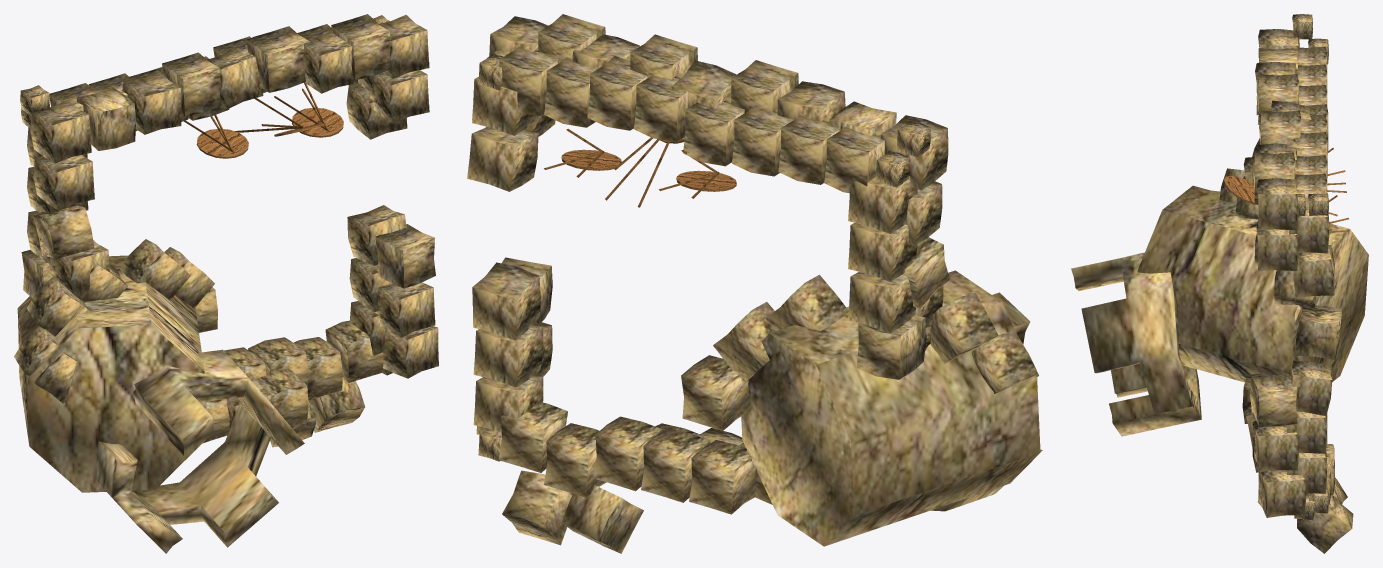
Rendered from archery_000058.obj.
3 renders of one model, left to right at view 1: azimuth 30°, elevation 25°; view 2: azimuth 150°, elevation 25°; view 3: azimuth 270°, elevation 25°, orthographic. The views are drawn at different scales.
Visible parts, largest first — view 1: Cylinder.060_Cylinder.040, Cylinder.110, Cylinder.111, Cylinder.112, Cylinder.070, Cylinder.100, Cylinder.087, Cylinder.099, Cylinder.083, Cylinder.084, Cylinder.069, Cylinder.085 (+26 smaller); view 2: Cylinder.060_Cylinder.040, Cylinder.112, Cylinder.111, Cylinder.075, Cylinder.057_Cylinder.032, Cylinder.074, Cylinder.104, Cylinder.058_Cylinder.033, Cylinder.059_Cylinder.039, Cylinder.064, Cylinder.063_Cylinder.057, Cylinder.076 (+33 smaller); view 3: Cylinder.060_Cylinder.040, Cylinder.110, Cylinder.112, Cylinder.070, Cylinder.071, Cylinder.068, Cylinder.069, Cylinder.075, Cylinder.074, Cylinder.063_Cylinder.057, Cylinder.072, Cylinder.085 (+21 smaller).
Part boxes in pixels (left/top/right/bottom): Cylinder.060_Cylinder.040: left=17, top=255, right=205, bottom=492; Cylinder.110: left=96, top=349, right=304, bottom=553; Cylinder.111: left=14, top=263, right=127, bottom=404; Cylinder.112: left=120, top=239, right=217, bottom=332; Cylinder.070: left=375, top=224, right=435, bottom=288; Cylinder.100: left=30, top=100, right=91, bottom=163; Cylinder.087: left=246, top=28, right=305, bottom=92; Cylinder.099: left=33, top=155, right=94, bottom=210; Cylinder.083: left=76, top=88, right=135, bottom=150; Cylinder.084: left=122, top=72, right=181, bottom=134; Cylinder.069: left=374, top=282, right=435, bottom=337; Cylinder.085: left=162, top=52, right=221, bottom=116; Cylinder.060_Cylinder.040: left=741, top=270, right=1040, bottom=546; Cylinder.112: left=681, top=274, right=848, bottom=430; Cylinder.111: left=929, top=292, right=1038, bottom=393; Cylinder.075: left=472, top=262, right=540, bottom=340; Cylinder.057_Cylinder.032: left=689, top=440, right=755, bottom=514; Cylinder.074: left=467, top=126, right=538, bottom=191; Cylinder.104: left=856, top=315, right=926, bottom=379; Cylinder.058_Cylinder.033: left=641, top=428, right=710, bottom=502; Cylinder.059_Cylinder.039: left=593, top=416, right=662, bottom=491; Cylinder.064: left=561, top=484, right=643, bottom=553; Cylinder.063_Cylinder.057: left=502, top=470, right=573, bottom=545; Cylinder.076: left=473, top=323, right=543, bottom=387; Cylinder.060_Cylinder.040: left=1137, top=185, right=1368, bottom=382; Cylinder.110: left=1071, top=252, right=1201, bottom=436; Cylinder.112: left=1254, top=233, right=1341, bottom=359; Cylinder.070: left=1250, top=372, right=1297, bottom=426; Cylinder.071: left=1256, top=178, right=1298, bottom=230; Cylinder.068: left=1257, top=470, right=1306, bottom=517; Cylinder.069: left=1254, top=421, right=1298, bottom=471; Cylinder.075: left=1291, top=360, right=1332, bottom=415; Cylinder.074: left=1293, top=245, right=1334, bottom=298; Cylinder.063_Cylinder.057: left=1297, top=495, right=1353, bottom=553; Cylinder.072: left=1256, top=220, right=1298, bottom=270; Cylinder.085: left=1256, top=74, right=1298, bottom=124.
Size of the model in its own units: 10.47 by 9.63 by 6.61.
